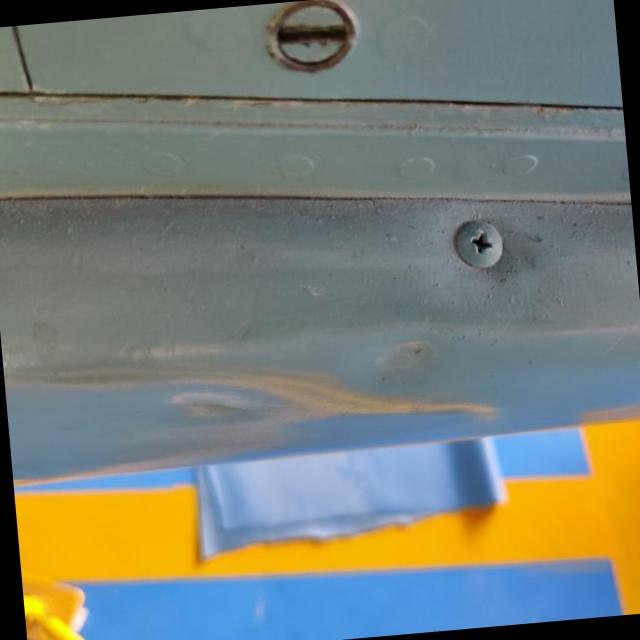Dent: (3, 357, 490, 480)
